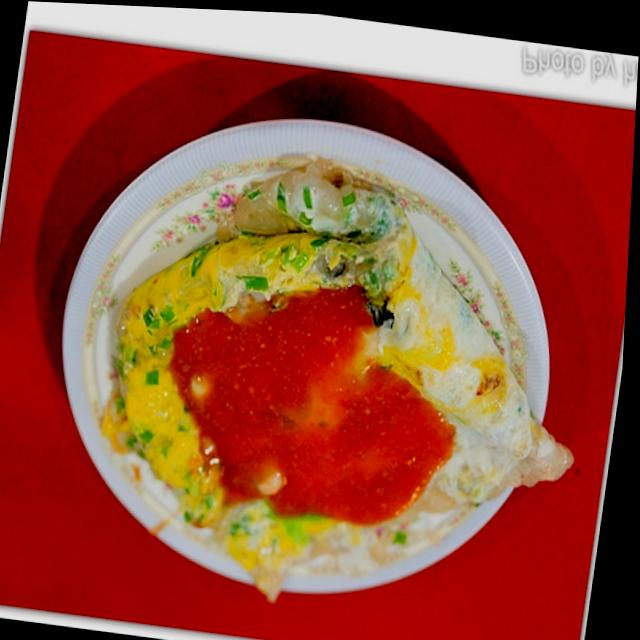熟制海鲜: (31, 93, 587, 632)
